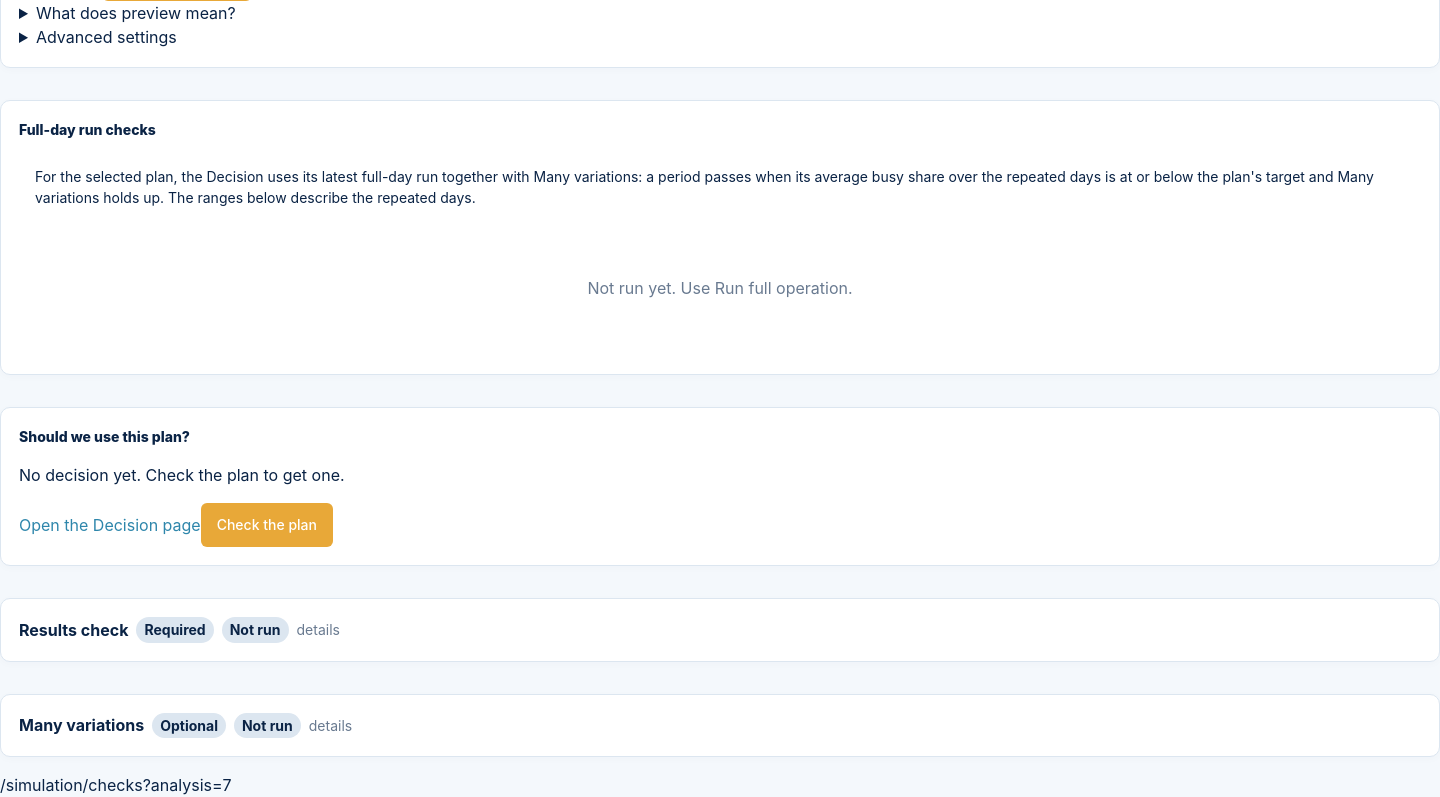
shared selection/checks and legacy renderer contracts › checks the plan: Results check, then the Decision
(page scrolled)
Step 1. Click the button "Check the plan" → (267, 525), box left=201, top=503, right=333, bottom=547
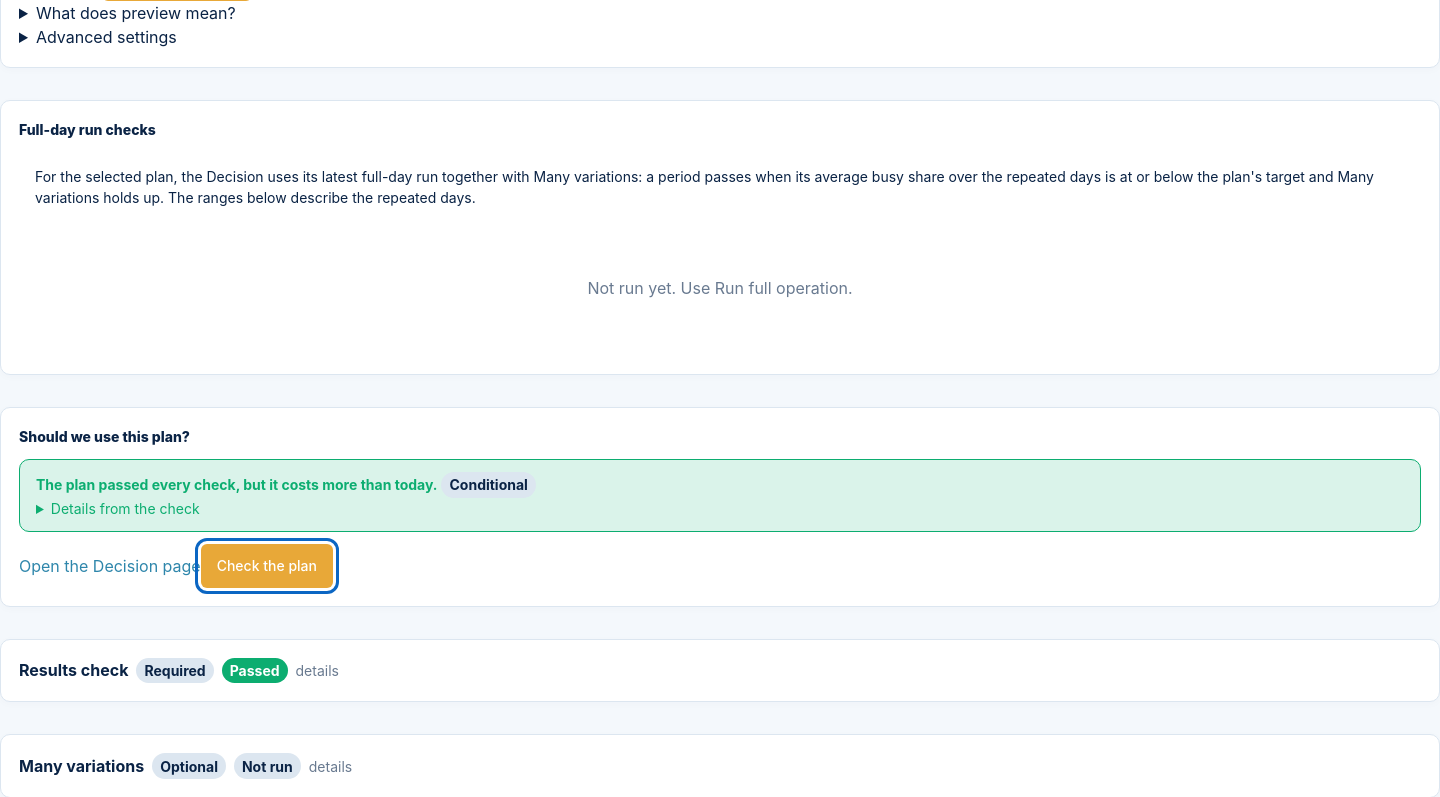
Expected: the heading "Should we use this plan?" is shown, left=19, top=428, right=190, bottom=445
Now the text with test id "decision-plain" reads "The plan passed every check, but it costs more than today.", box left=36, top=476, right=438, bottom=493
